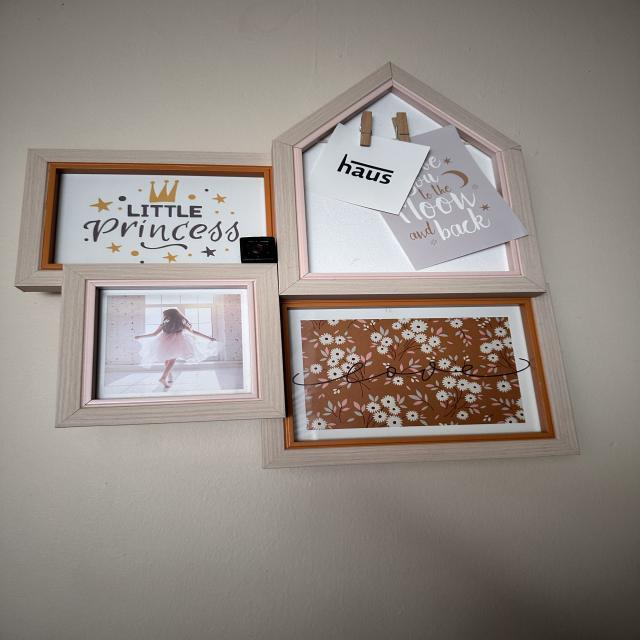hidden camera: (250, 244, 264, 254)
